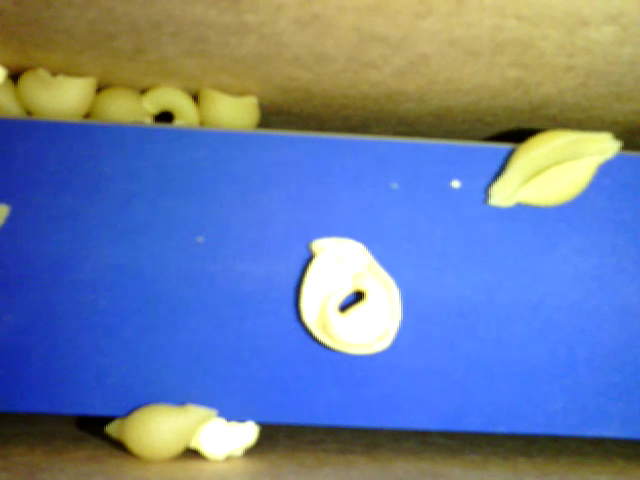elbow: (139, 83, 201, 127)
shell: (486, 127, 623, 207), (102, 398, 220, 462), (16, 67, 99, 123), (196, 84, 258, 130), (89, 84, 153, 126)
tortellini: (295, 236, 403, 356)
